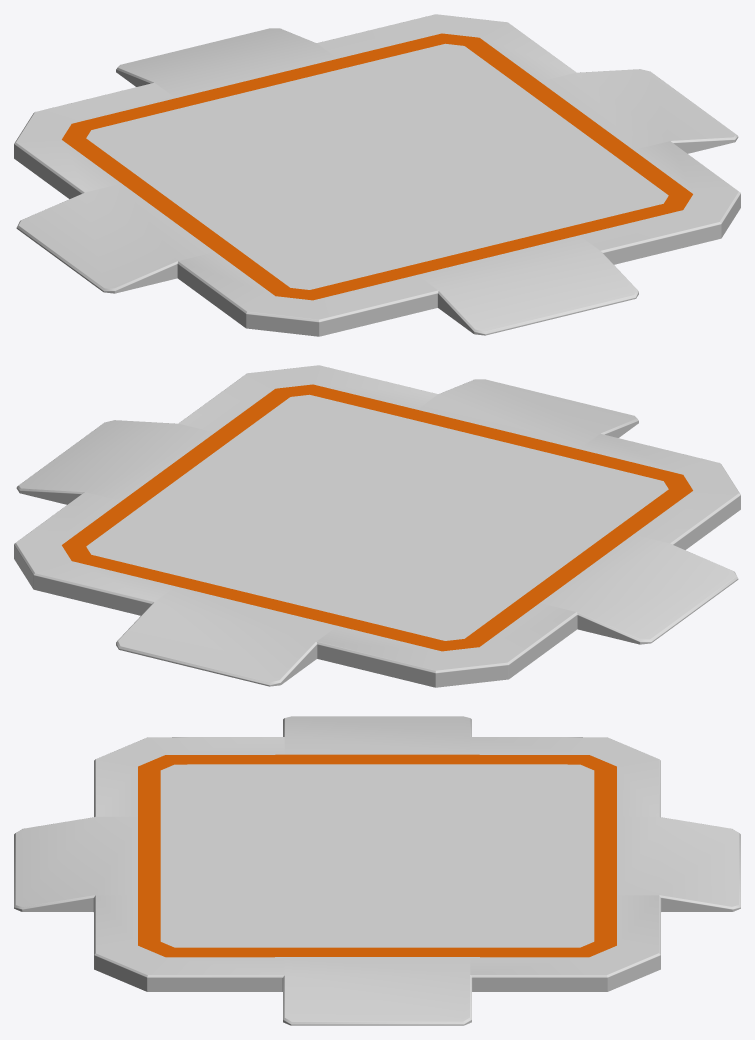
Rendered from Platform.fbx.
3 renders of one model, top to bottom at view 1: azimuth 30°, elevation 25°; view 2: azimuth 150°, elevation 25°; view 3: azimuth 270°, elevation 25°, orthographic.
Visible parts, largest first — view 1: Platform; view 2: Platform; view 3: Platform.
Boxes of the visible parts, <box> form: Platform: <box>14,14,740,336</box>; Platform: <box>14,365,740,687</box>; Platform: <box>14,716,740,1025</box>.
Size of the model in its own units: 1026 by 25.26 by 1026.
